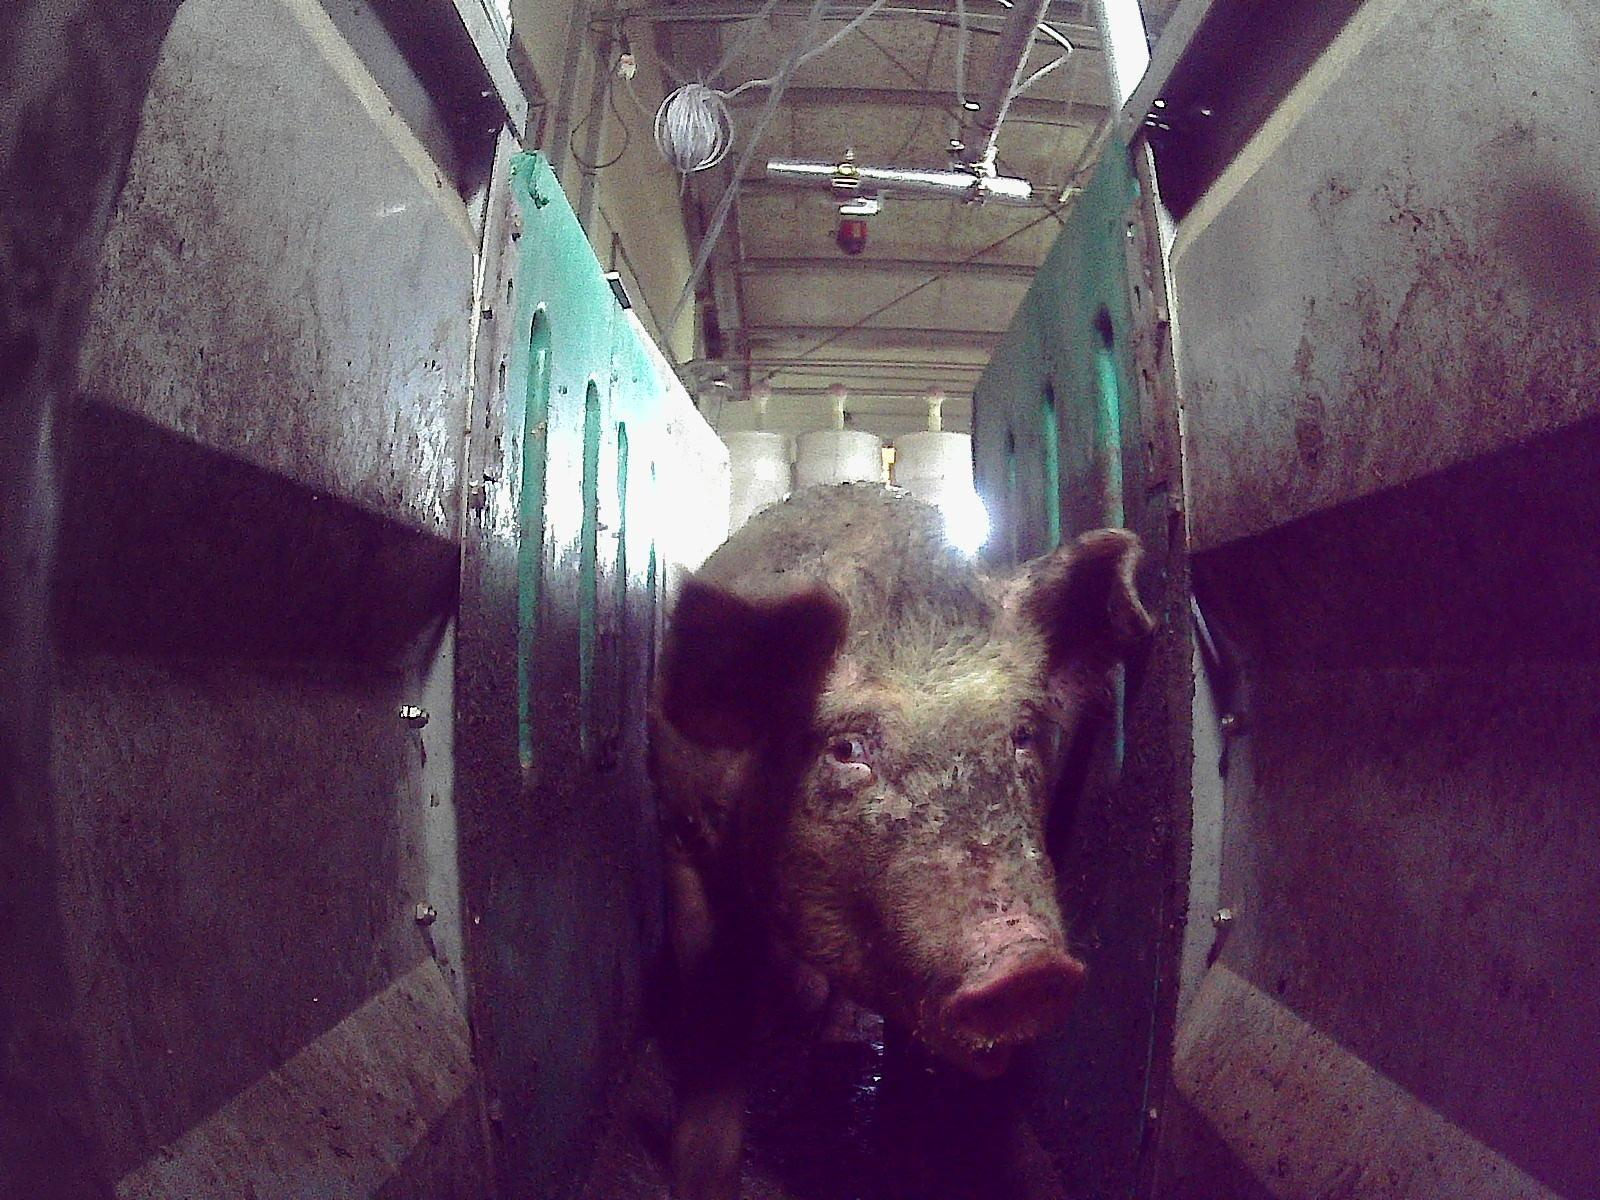Face: (753, 564, 1089, 1077)
